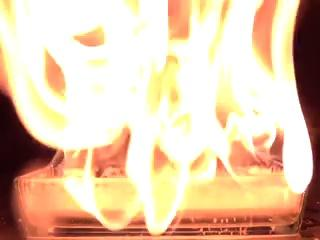Fire: (13, 1, 320, 236)
